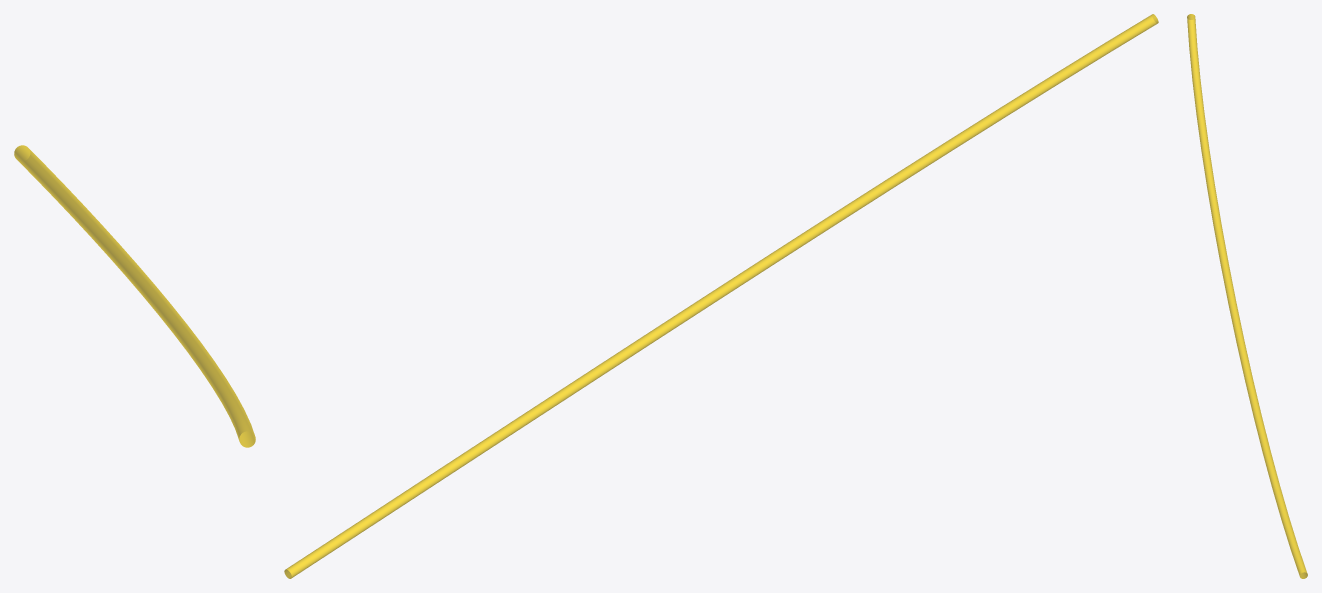
File: Event_27938768_track_3.fbx
The picture shows the model from 3 angles, left to right: view 1: azimuth 90°, elevation 25°; view 2: azimuth 210°, elevation 25°; view 3: azimuth 270°, elevation 25°; orthographic projection. The views are drawn at different scales.
Visible parts, largest first — view 1: Model; view 2: Model; view 3: Model.
Part boxes in pixels (x1,y1,x2,y2): Model: (14, 145, 255, 447); Model: (284, 14, 1158, 578); Model: (1187, 14, 1307, 578).
Size of the model in its own units: 4.01 by 1.14 by 0.5818.
